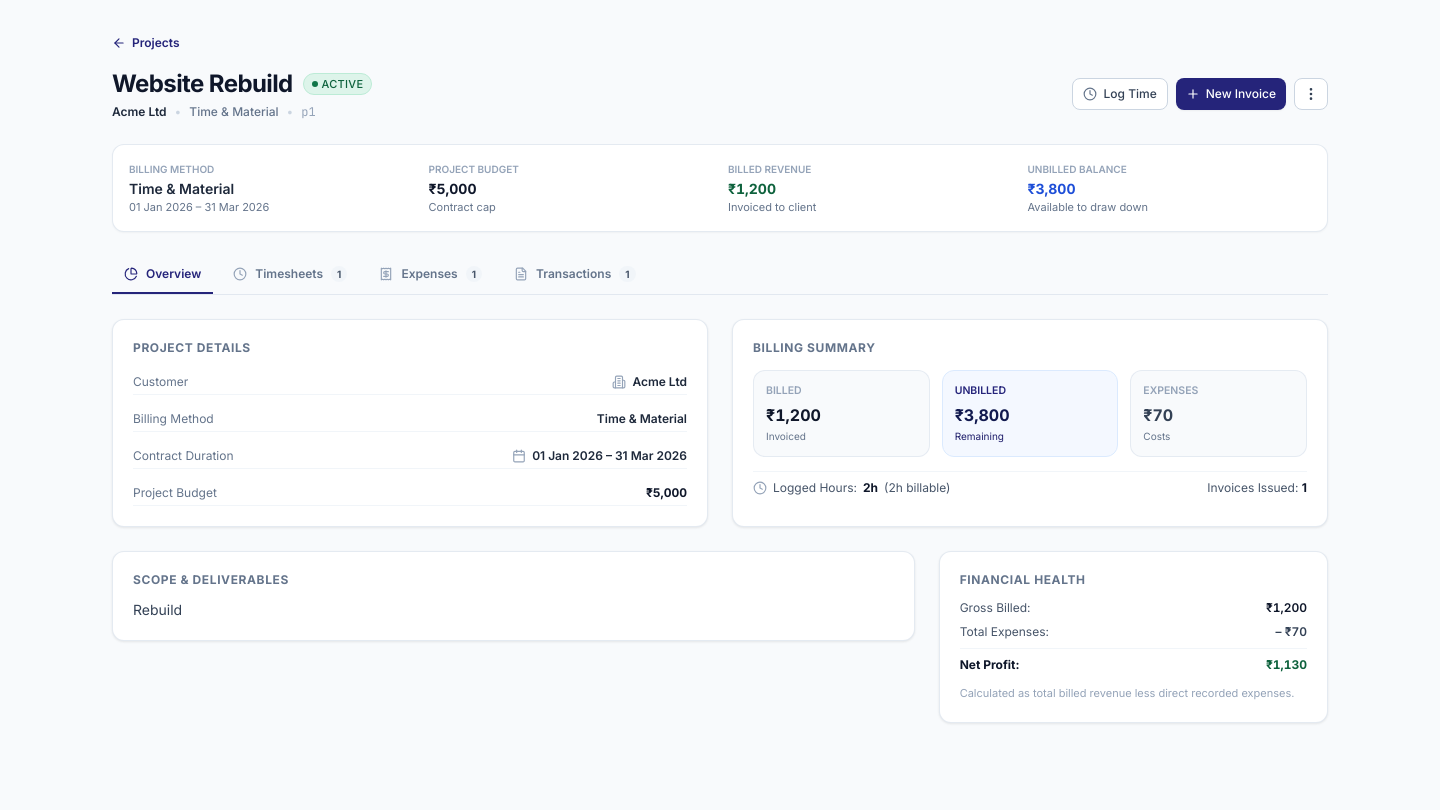
Test: <ProjectDetailsPage /> characterisation › shows the transactions tab rows
expect the heading "Website Rebuild" is shown: met, box x1=112 y1=68 x2=293 y2=100
Click the button "Transactions 1".
click(575, 275)  # box x1=502 y1=256 x2=648 y2=294
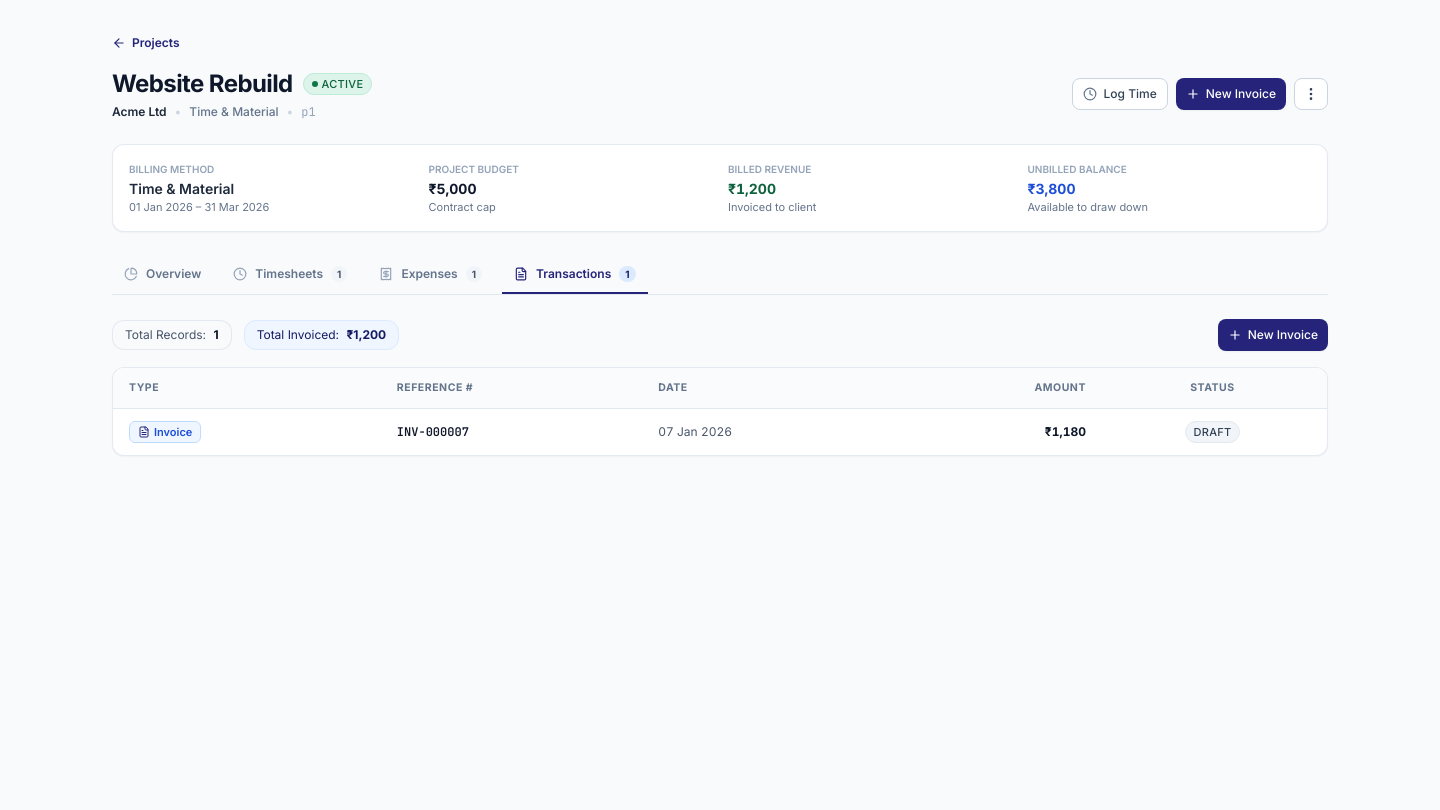
expect the text "INV-000007" is shown: met, box x1=385 y1=408 x2=646 y2=455
